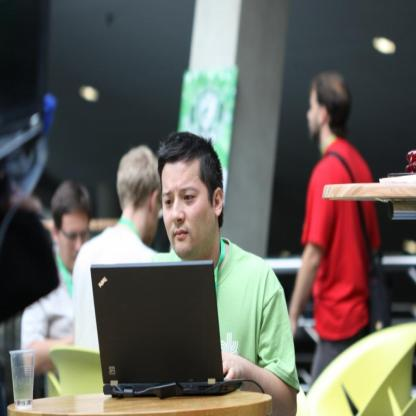board: (83, 249, 238, 416)
